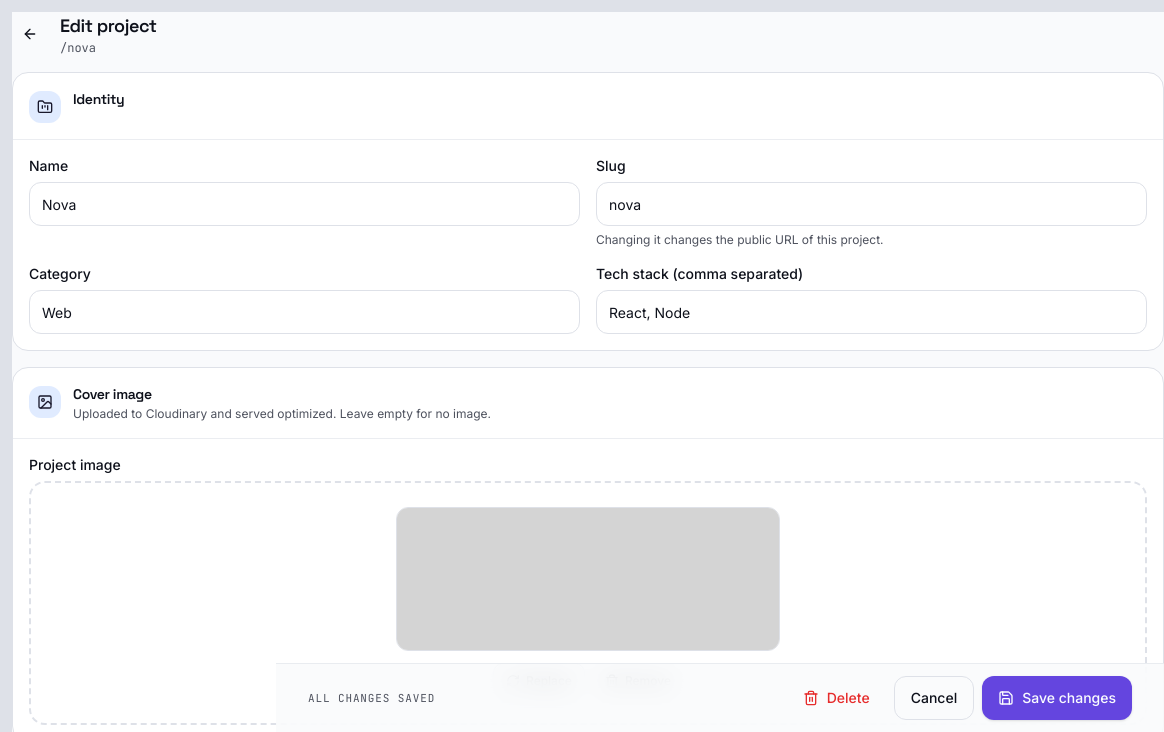
it: ProjectEditor — dirty state lifecycle › 8. a successful update clears the dirty state
This screenshot has width=1164, height=732.
expect the text "All changes saved" is shown: met, box 308,690 -> 435,706
Type " X" into the field labelled "Name" at x=304, y=204, box 29,182 -> 580,226
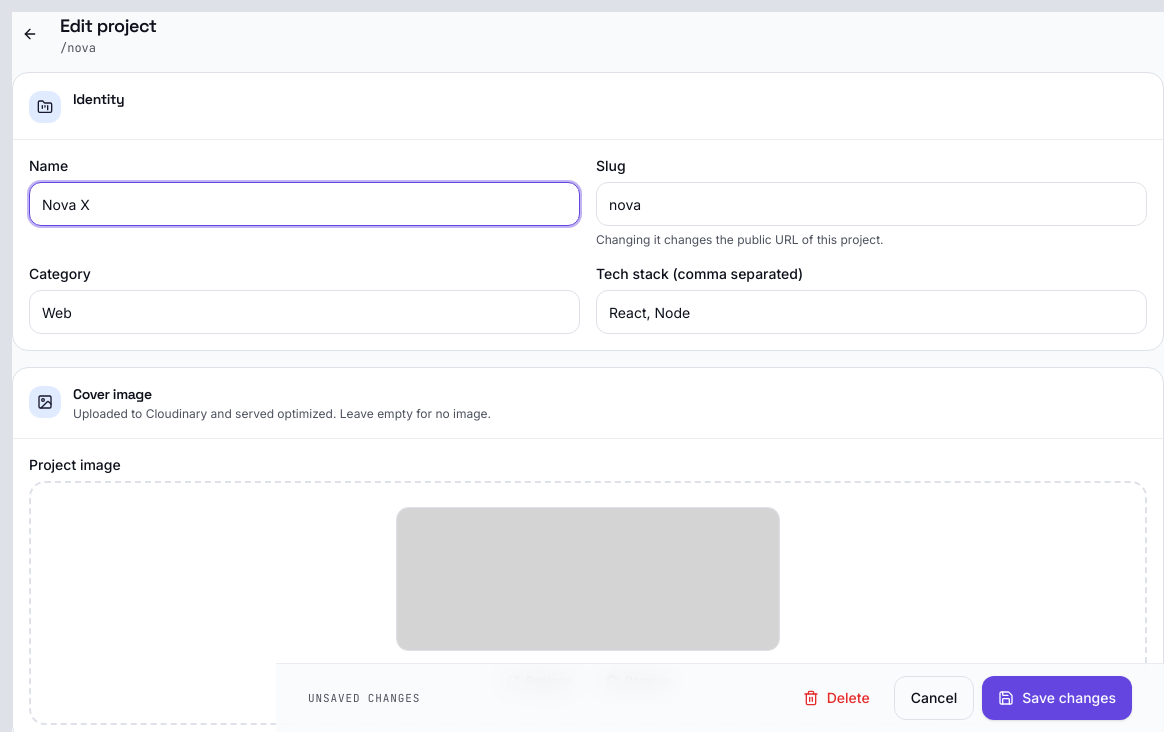
Click the button "Save changes" at x=1057, y=698, box 982,676 -> 1132,720
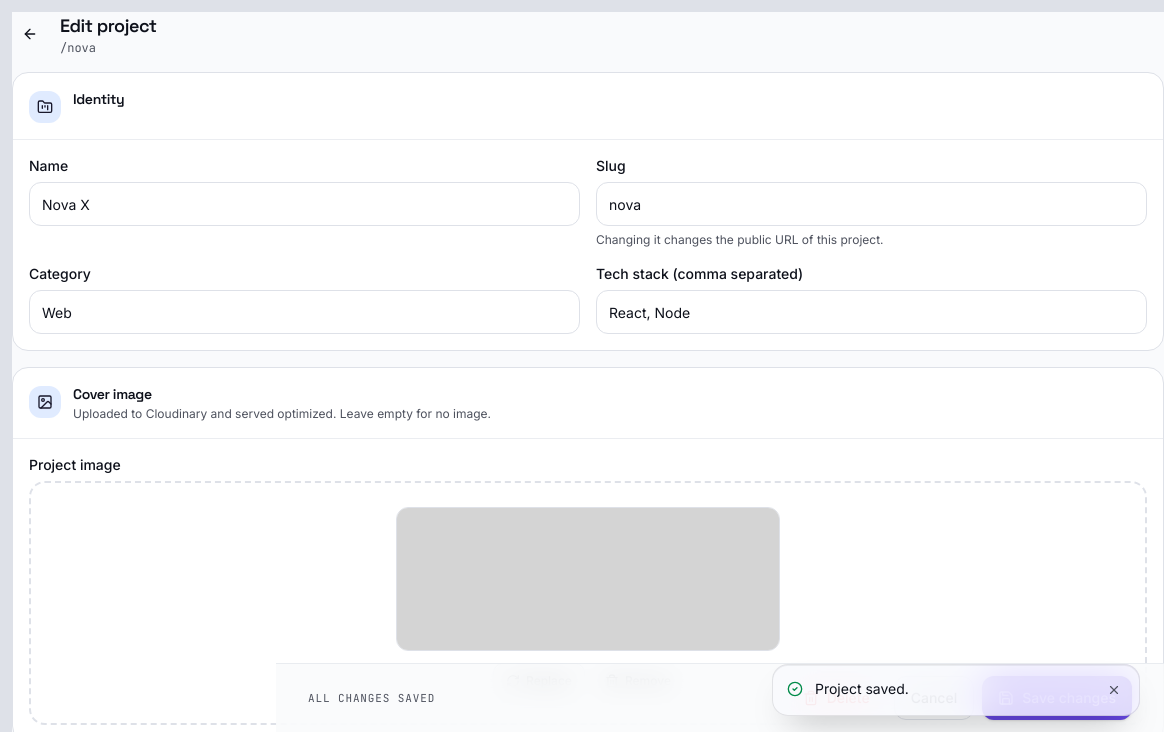
expect the text "All changes saved" is shown: met, box 308,690 -> 435,706
